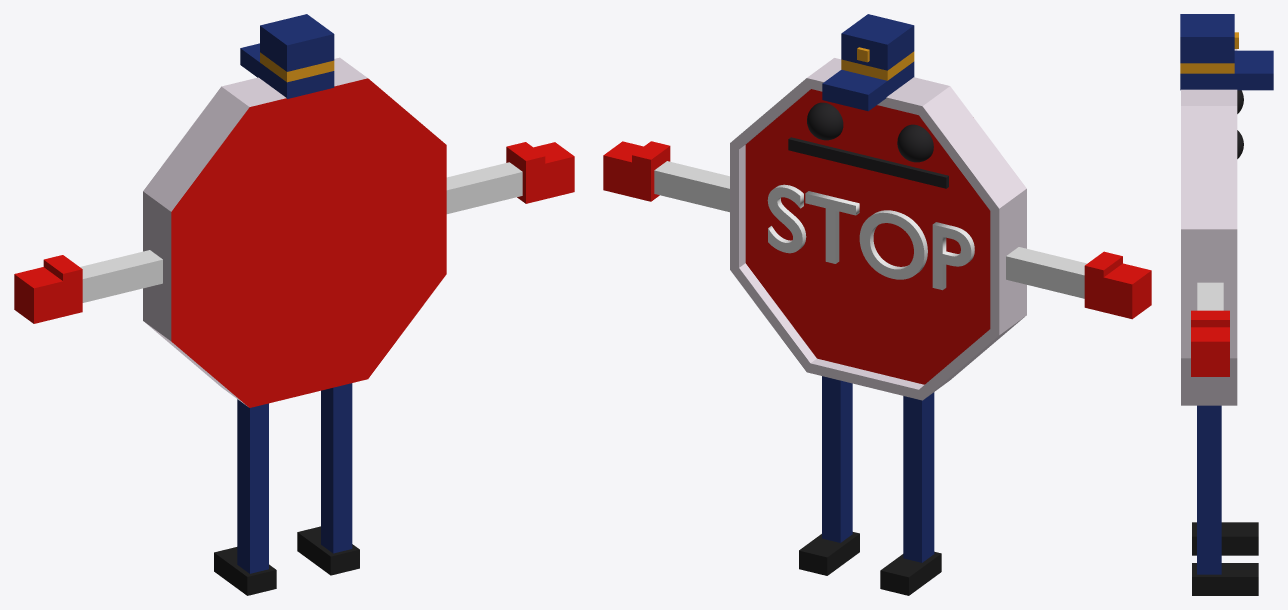
File: OF[obsMov]_StopSignal.fbx
The picture shows the model from 3 angles, left to right: view 1: azimuth 30°, elevation 25°; view 2: azimuth 150°, elevation 25°; view 3: azimuth 270°, elevation 25°; orthographic projection. The views are drawn at different scales.
Parts seen in each view (by area): view 1: Cube.015; view 2: Cube.015; view 3: Cube.015.
Boxes of the visible parts, box(x1,y1,x2,y2) form: Cube.015: box(14, 14, 574, 595); Cube.015: box(603, 14, 1151, 595); Cube.015: box(1180, 14, 1273, 595).
Size of the model in its own units: 223 by 215 by 33.42.
